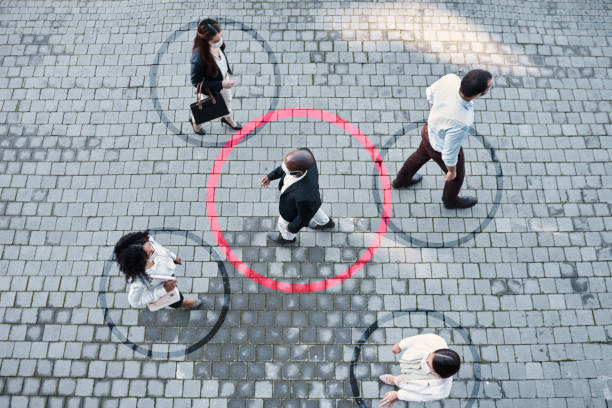with mask: (202, 26, 236, 54), (275, 154, 309, 182), (467, 76, 501, 104), (417, 349, 451, 377), (132, 237, 166, 265)
